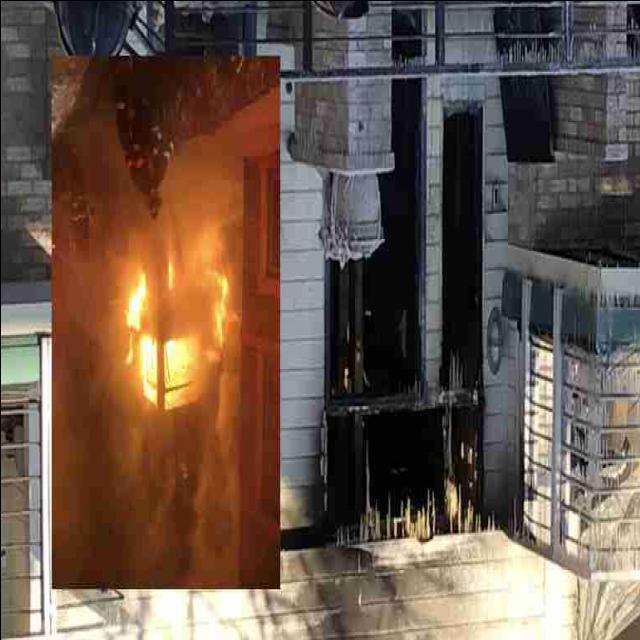Fire: (110, 241, 242, 448)
